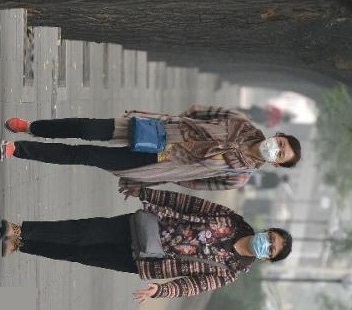person: (4, 184, 294, 300), (7, 108, 300, 195), (236, 103, 296, 128), (242, 170, 292, 189)
